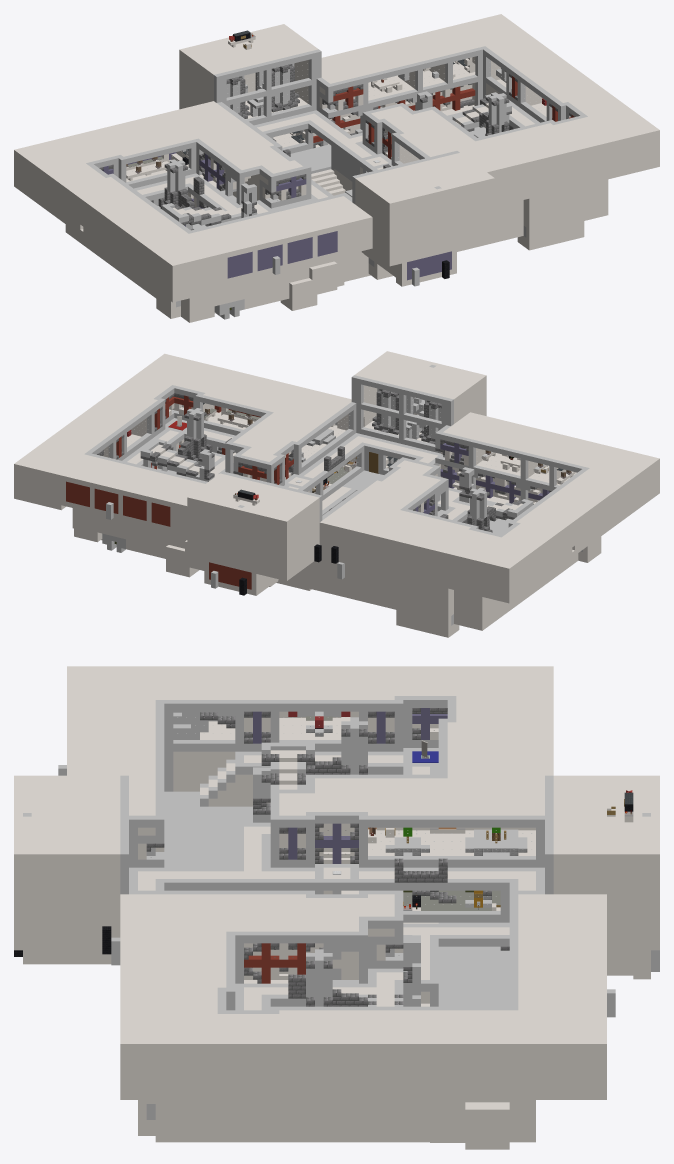
The model's file is minecraft.obj.
3 views of the same model, one above another, from view 1: azimuth 30°, elevation 25°; view 2: azimuth 150°, elevation 25°; view 3: azimuth 270°, elevation 25° (orthographic). The views are drawn at different scales.
Size of the model in its own units: 101 by 28.06 by 73.
